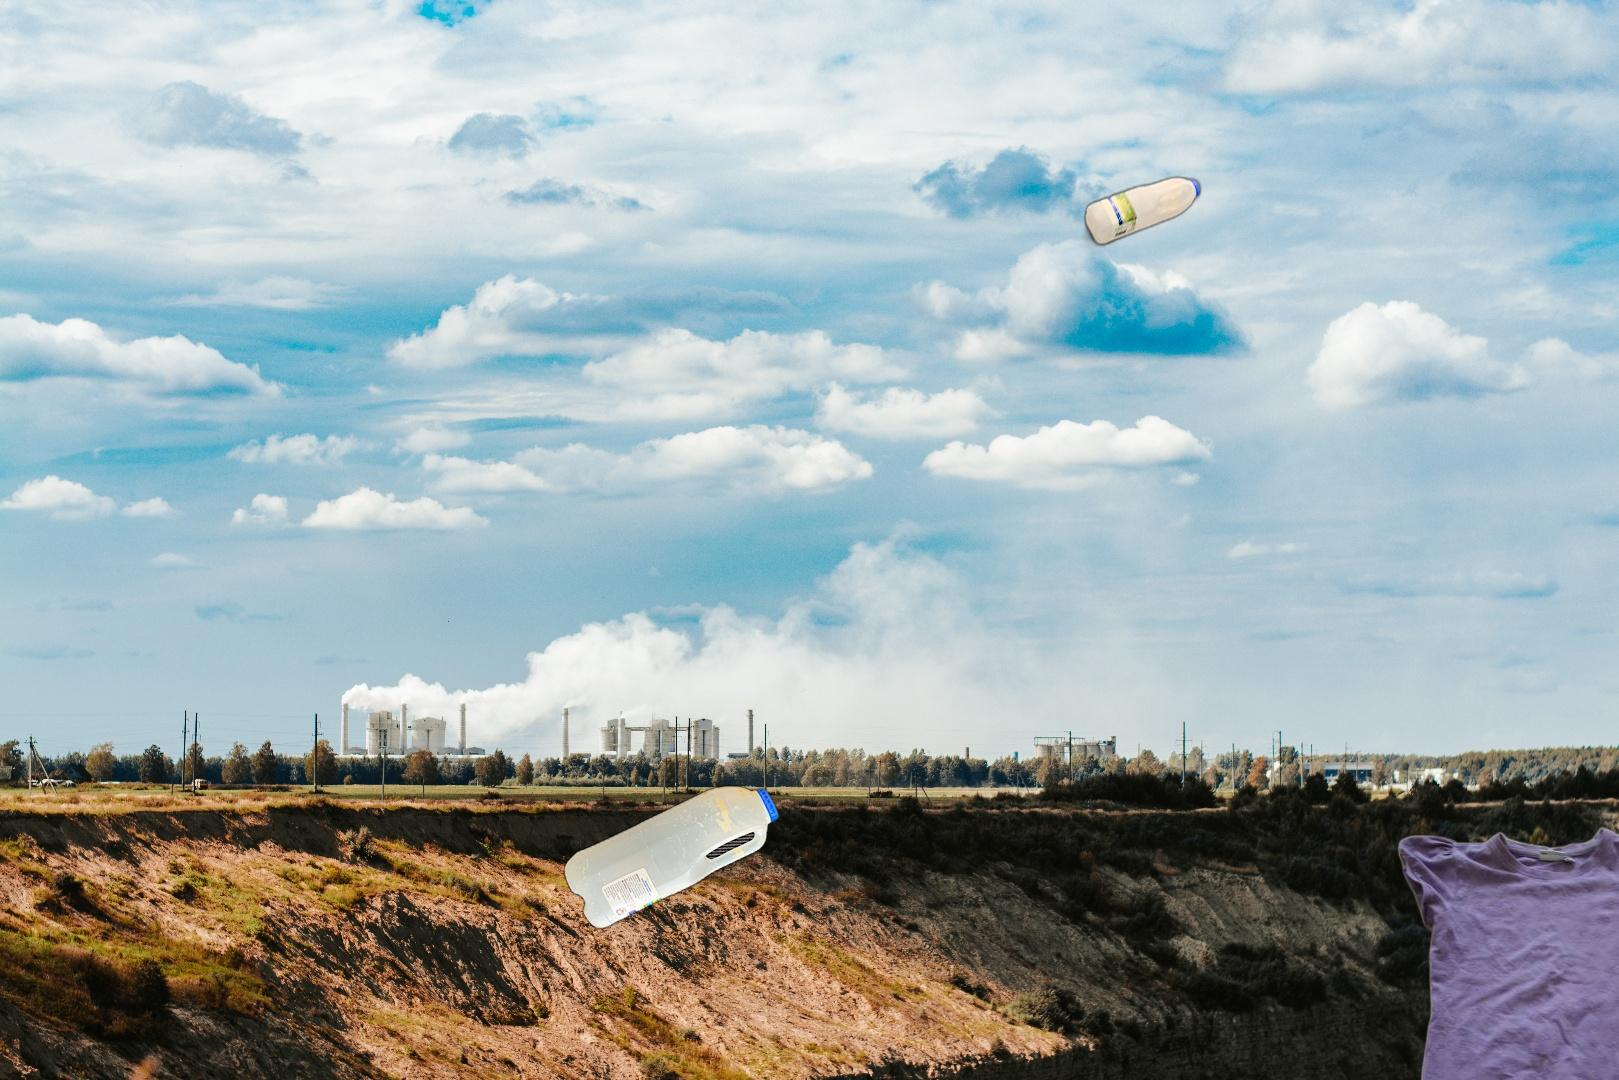clothes: (1394, 822, 1619, 1080)
plastic-bottles: (561, 779, 784, 935), (1077, 171, 1206, 257)
